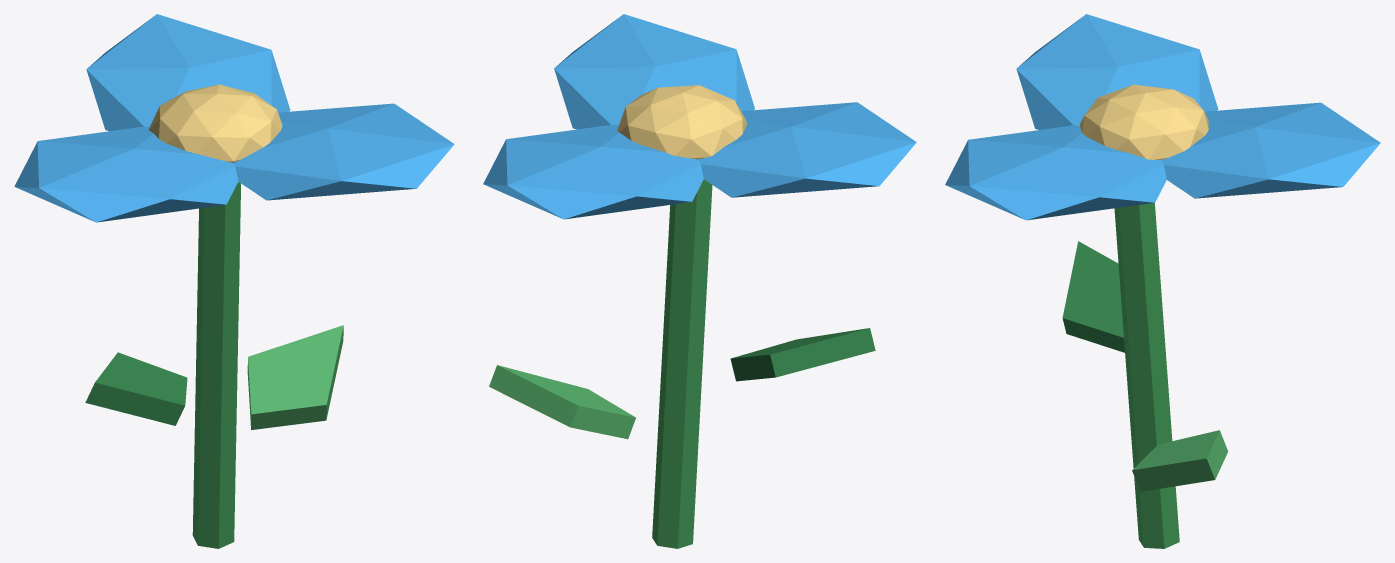
File: MiniFlower_3Petal_Blue.glb
3 renders of one model, left to right at view 1: azimuth 30°, elevation 25°; view 2: azimuth 150°, elevation 25°; view 3: azimuth 270°, elevation 25°, orthographic.
Parts seen in each view (by area): view 1: MiniFlower_3Petal_Blue Petal 3, MiniFlower_3Petal_Blue Petal 2, MiniFlower_3Petal_Blue Stem, MiniFlower_3Petal_Blue Petal 1, MiniFlower_3Petal_Blue Leaf 1, MiniFlower_3Petal_Blue Center, MiniFlower_3Petal_Blue Leaf -1; view 2: MiniFlower_3Petal_Blue Stem, MiniFlower_3Petal_Blue Petal 2, MiniFlower_3Petal_Blue Petal 1, MiniFlower_3Petal_Blue Petal 3, MiniFlower_3Petal_Blue Center, MiniFlower_3Petal_Blue Leaf 1, MiniFlower_3Petal_Blue Leaf -1; view 3: MiniFlower_3Petal_Blue Petal 1, MiniFlower_3Petal_Blue Petal 3, MiniFlower_3Petal_Blue Petal 2, MiniFlower_3Petal_Blue Stem, MiniFlower_3Petal_Blue Center, MiniFlower_3Petal_Blue Leaf -1, MiniFlower_3Petal_Blue Leaf 1.
Part boxes in pixels (bbox=[...]): MiniFlower_3Petal_Blue Petal 3: bbox=[233, 103, 454, 200]; MiniFlower_3Petal_Blue Petal 2: bbox=[14, 126, 238, 222]; MiniFlower_3Petal_Blue Stem: bbox=[192, 182, 240, 548]; MiniFlower_3Petal_Blue Petal 1: bbox=[86, 14, 290, 131]; MiniFlower_3Petal_Blue Leaf 1: bbox=[247, 325, 343, 429]; MiniFlower_3Petal_Blue Center: bbox=[148, 84, 282, 162]; MiniFlower_3Petal_Blue Leaf -1: bbox=[85, 352, 187, 425]; MiniFlower_3Petal_Blue Stem: bbox=[652, 179, 712, 548]; MiniFlower_3Petal_Blue Petal 2: bbox=[698, 102, 916, 197]; MiniFlower_3Petal_Blue Petal 1: bbox=[483, 125, 703, 219]; MiniFlower_3Petal_Blue Petal 3: bbox=[554, 14, 754, 129]; MiniFlower_3Petal_Blue Center: bbox=[617, 85, 747, 159]; MiniFlower_3Petal_Blue Leaf 1: bbox=[489, 365, 635, 439]; MiniFlower_3Petal_Blue Leaf -1: bbox=[730, 328, 875, 381]; MiniFlower_3Petal_Blue Petal 1: bbox=[1161, 102, 1380, 198]; MiniFlower_3Petal_Blue Petal 3: bbox=[945, 125, 1166, 220]; MiniFlower_3Petal_Blue Petal 2: bbox=[1016, 14, 1218, 129]; MiniFlower_3Petal_Blue Stem: bbox=[1114, 203, 1179, 548]; MiniFlower_3Petal_Blue Center: bbox=[1080, 84, 1208, 159]; MiniFlower_3Petal_Blue Leaf -1: bbox=[1062, 241, 1124, 352]; MiniFlower_3Petal_Blue Leaf 1: bbox=[1132, 430, 1228, 491].
Bounding box in the file's own units: 0.3658 × 0.416 × 0.3673.
